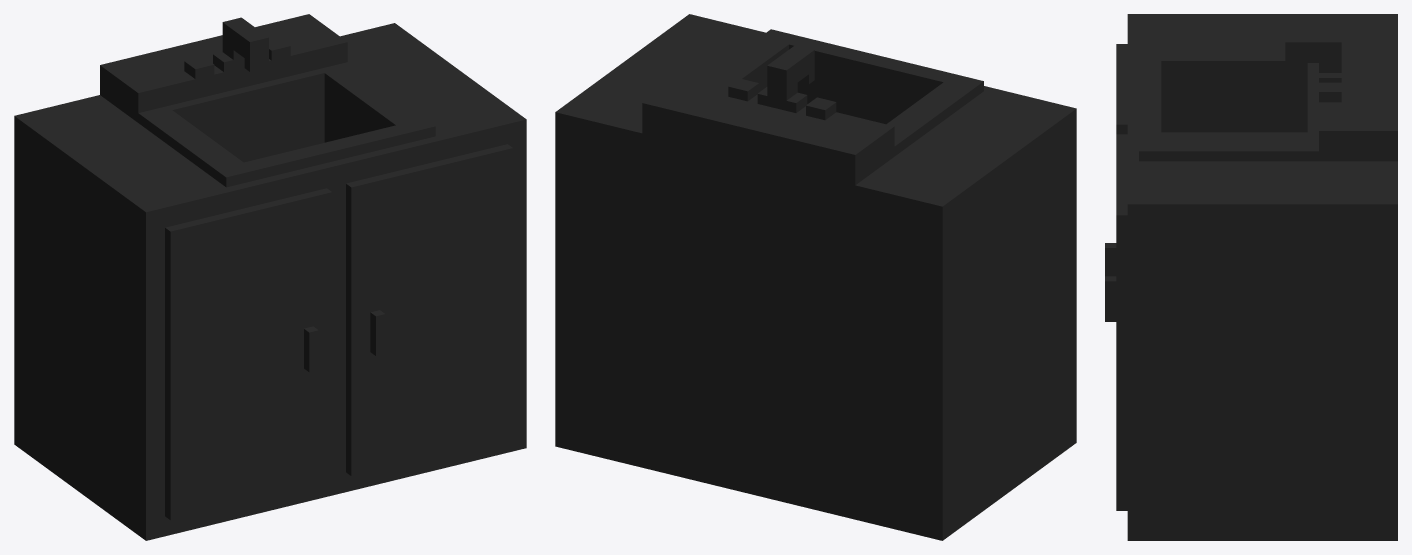
File: sink.obj
3 renders of one model, left to right at view 1: azimuth 30°, elevation 25°; view 2: azimuth 150°, elevation 25°; view 3: azimuth 270°, elevation 25°, orthographic. The views are drawn at different scales.
Visible parts, largest first — view 1: sink; view 2: sink; view 3: sink.
Boxes of the visible parts, x1=… form: sink: x1=14, y1=14, x2=526, y2=540; sink: x1=555, y1=14, x2=1076, y2=540; sink: x1=1105, y1=14, x2=1397, y2=540.
Size of the model in its own units: 40 by 40 by 26.
Materials: 1 (1 with a texture image).
